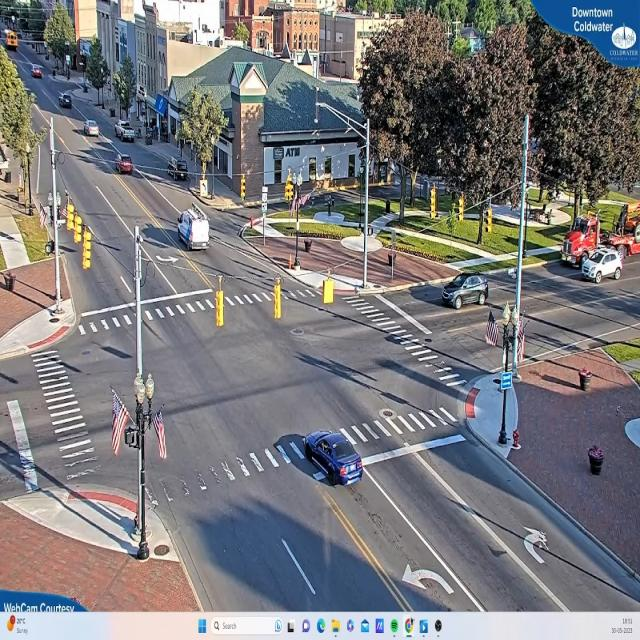car: (302, 432, 363, 488), (173, 207, 212, 253), (443, 274, 488, 311), (581, 248, 622, 284), (117, 122, 137, 144), (119, 156, 134, 176)
